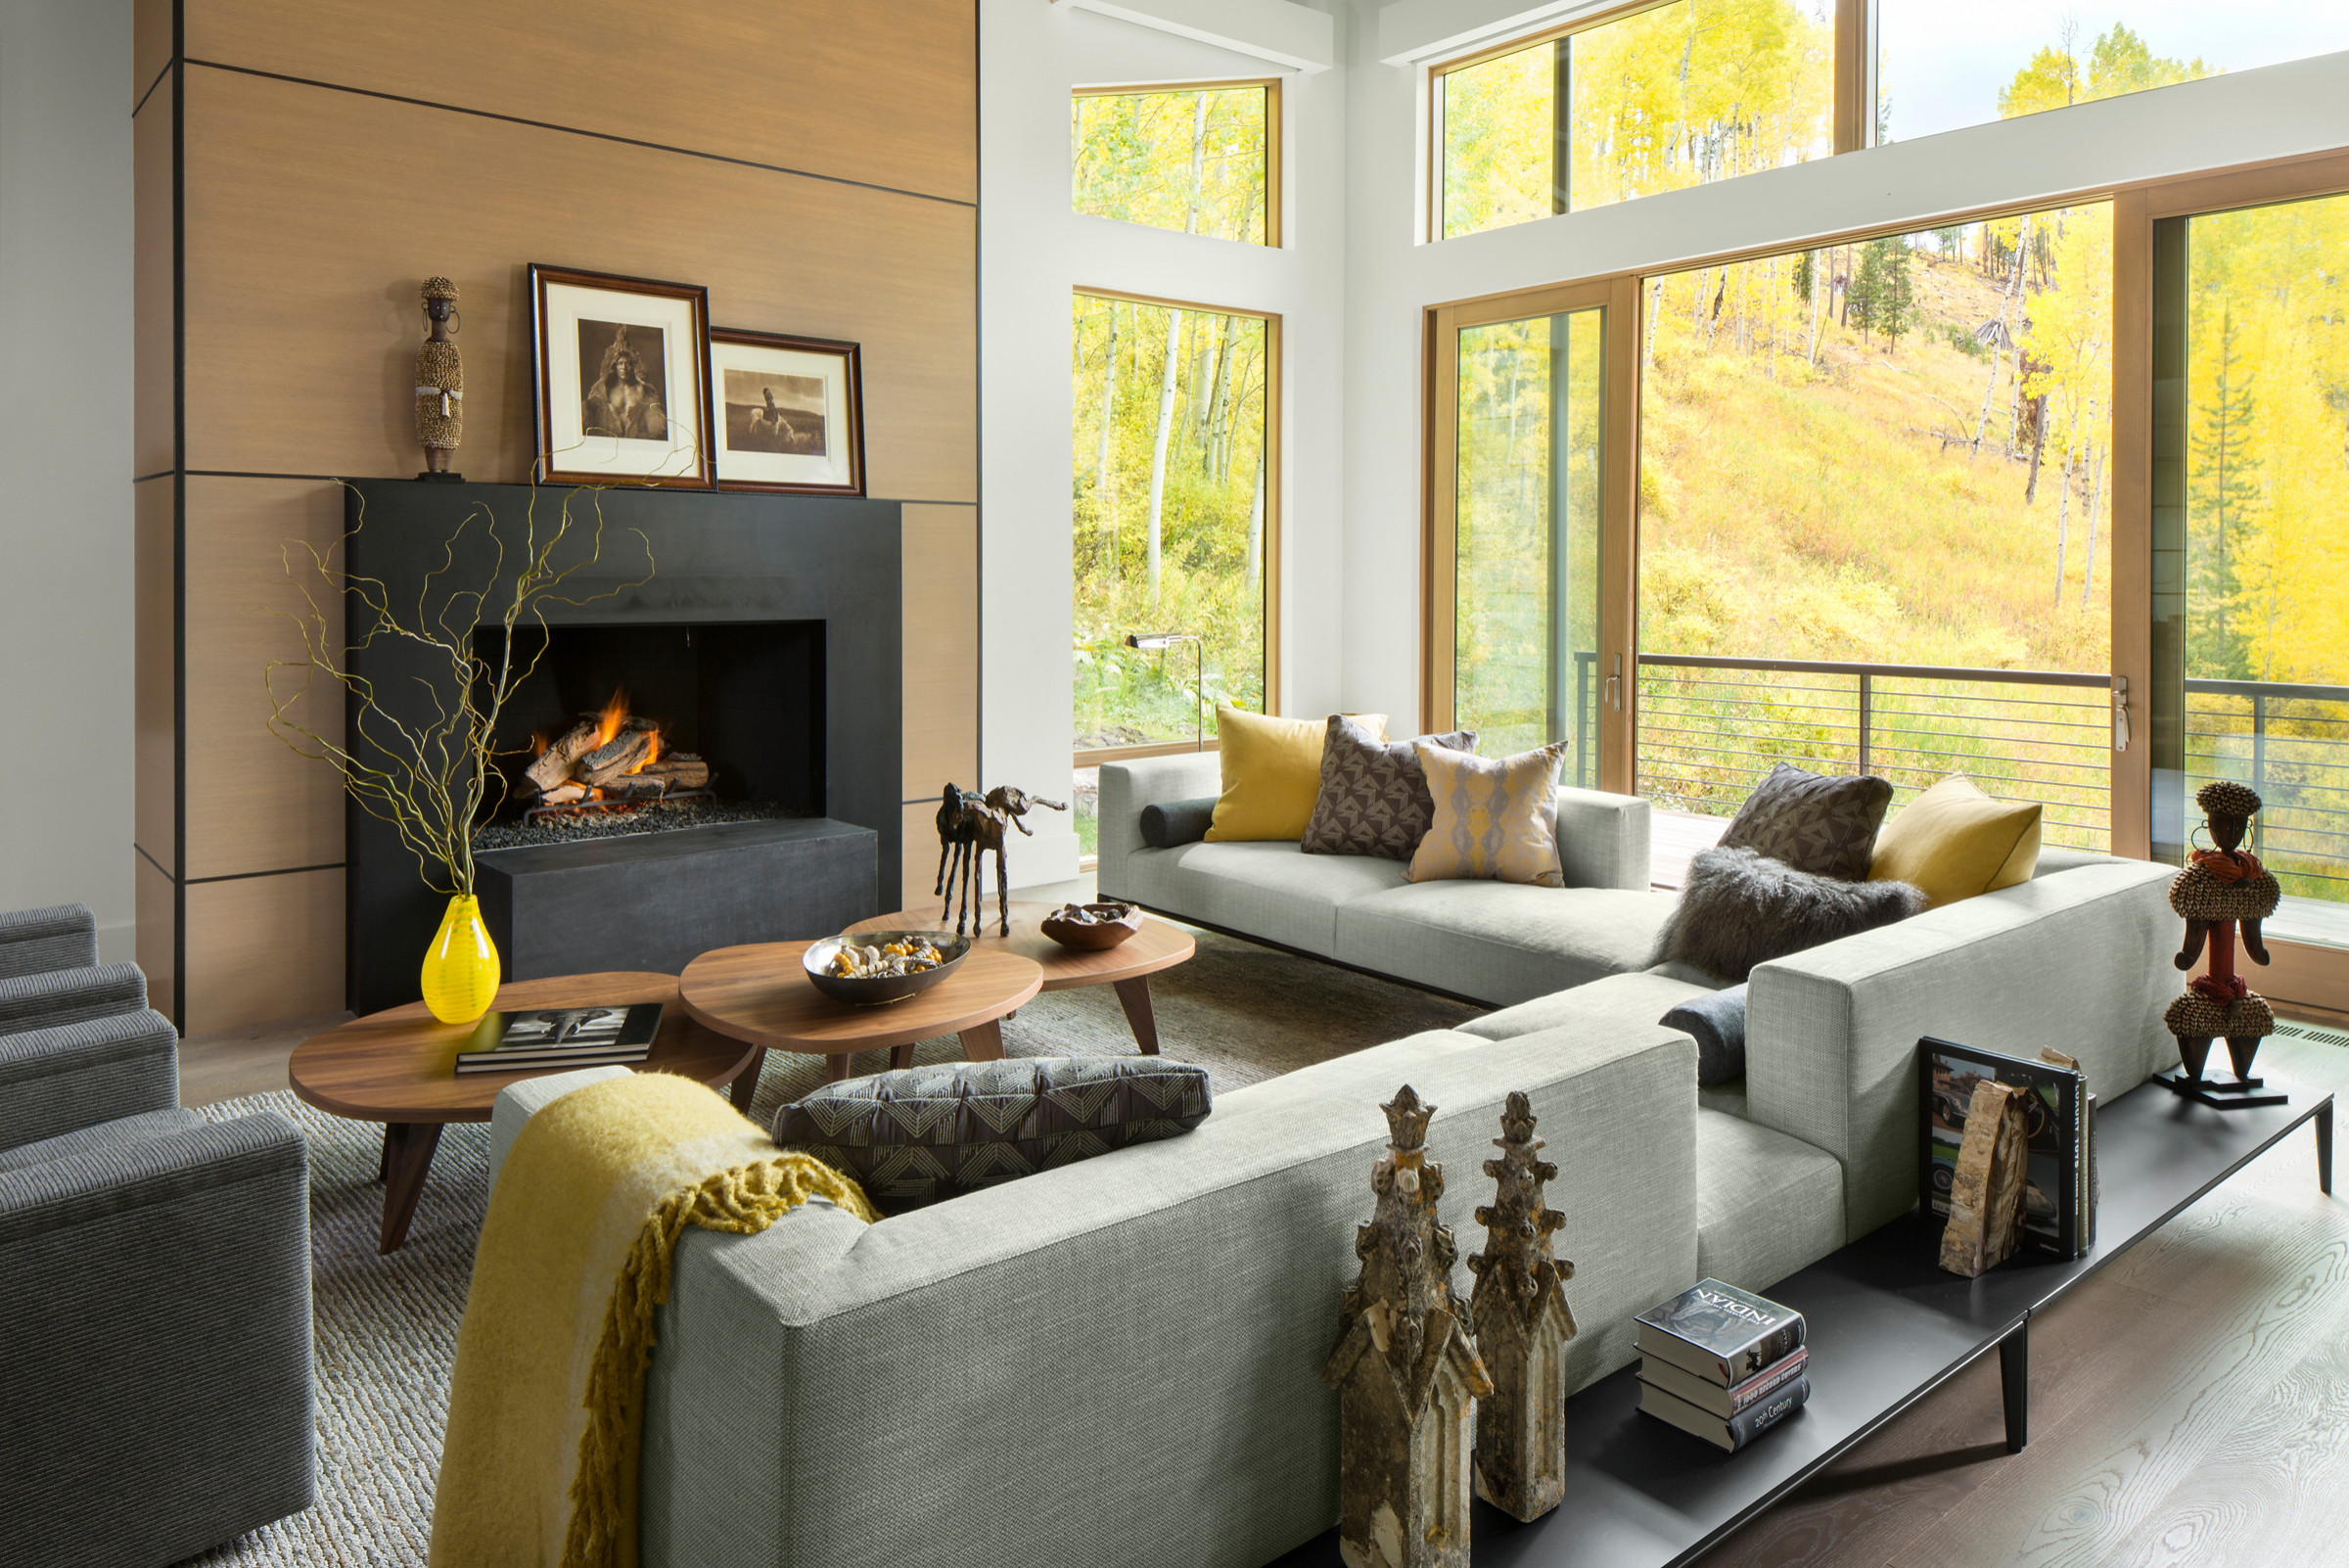chair: (0, 1011, 324, 1564), (2, 903, 147, 1010)
sofa: (477, 1045, 1845, 1557), (1102, 682, 2199, 1127)
table: (285, 961, 757, 1267), (686, 917, 1044, 1094), (880, 884, 1205, 1060)
wall art: (518, 255, 712, 499), (705, 310, 873, 504)
